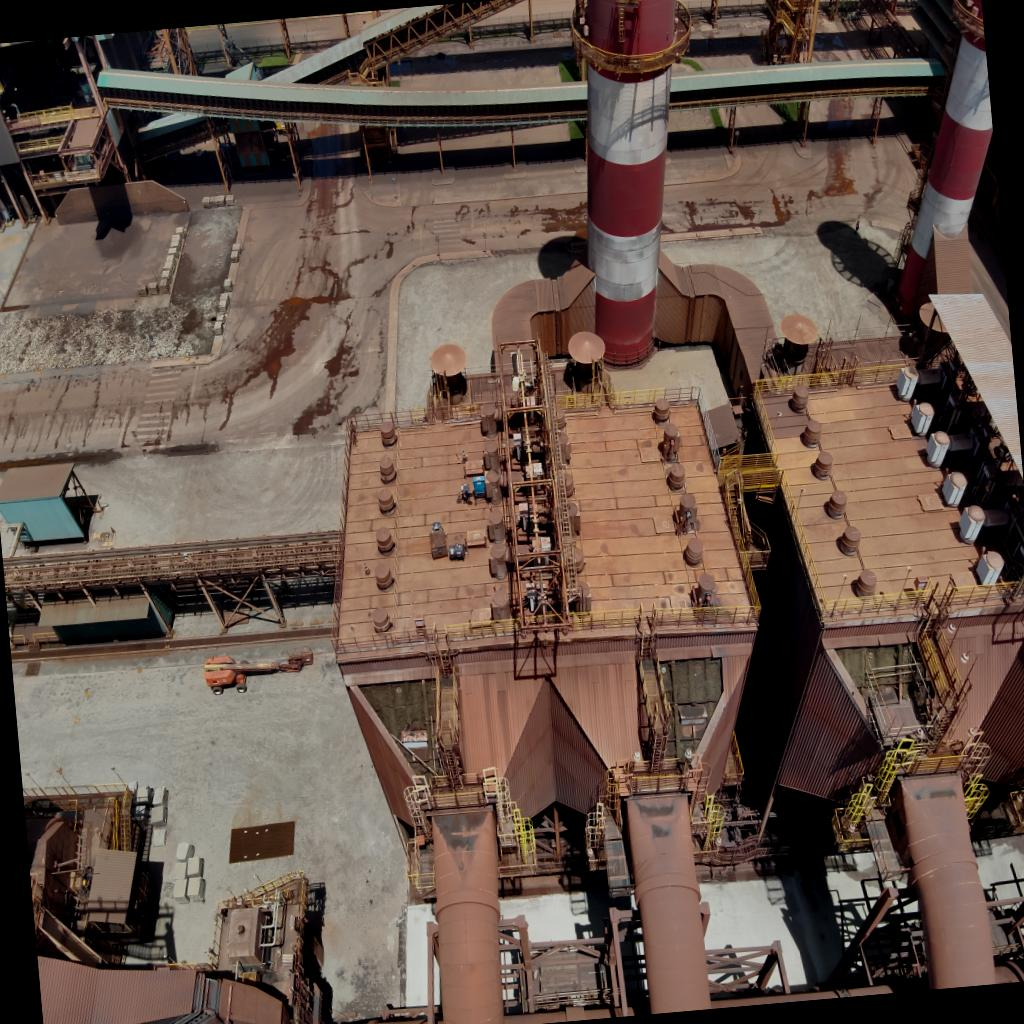Failures: (356, 674, 448, 790), (658, 650, 732, 765), (832, 637, 918, 710)
